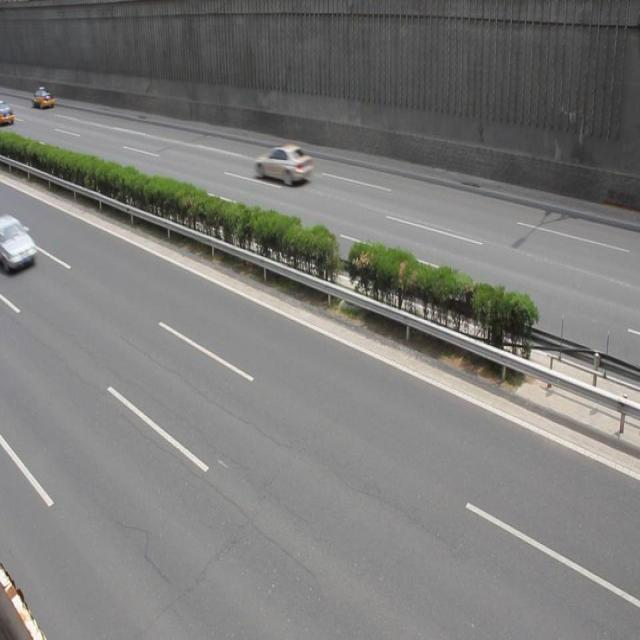car: (253, 142, 314, 186), (1, 213, 36, 270)
